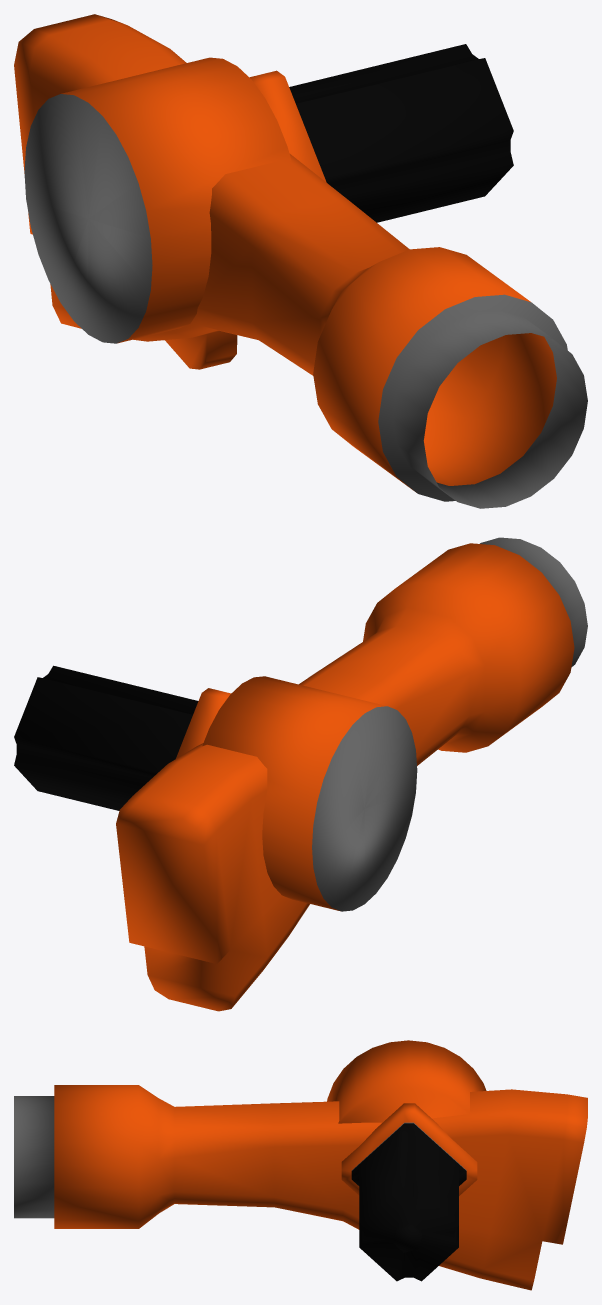
3 renders of one model, top to bottom at view 1: azimuth 30°, elevation 25°; view 2: azimuth 150°, elevation 25°; view 3: azimuth 270°, elevation 25°, orthographic. The views are drawn at different scales.
Parts seen in each view (by area): view 1: Object_94.041; view 2: Object_94.041; view 3: Object_94.041.
Part boxes in pixels (x1,y1,x2,y2): Object_94.041: [14, 14, 587, 508]; Object_94.041: [14, 537, 587, 1011]; Object_94.041: [14, 1040, 587, 1290].
Bounding box in the file's own units: 1.78 × 3.41 × 1.34.
